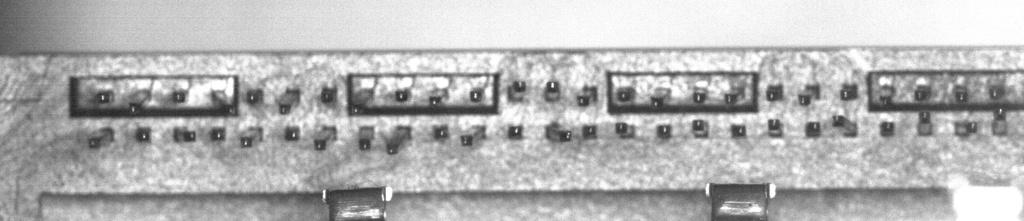pin_defect: (384, 122, 415, 155), (209, 87, 240, 119), (348, 84, 375, 117), (125, 86, 153, 117), (277, 83, 304, 115), (423, 84, 453, 111), (85, 126, 115, 151), (795, 82, 823, 108), (875, 83, 900, 110), (650, 83, 673, 110), (356, 124, 377, 153), (989, 105, 1009, 135), (313, 125, 336, 151), (832, 114, 857, 137), (461, 124, 487, 146), (722, 84, 748, 106), (506, 79, 527, 105), (576, 84, 600, 106), (545, 123, 572, 142), (915, 109, 934, 136), (239, 127, 262, 148), (765, 117, 785, 140), (615, 121, 637, 141), (912, 83, 933, 103), (951, 84, 970, 105), (173, 126, 196, 142), (955, 120, 976, 136), (691, 119, 709, 137), (544, 80, 560, 100), (320, 87, 337, 105), (766, 84, 783, 101), (805, 120, 821, 137), (880, 120, 895, 137)
pin_ok: (691, 85, 711, 105), (432, 124, 450, 143), (615, 86, 634, 103), (839, 84, 858, 101), (988, 83, 1005, 100), (246, 88, 263, 104), (730, 122, 747, 138), (284, 125, 300, 141), (507, 124, 524, 139), (135, 127, 151, 142), (582, 124, 598, 139), (95, 90, 112, 104), (469, 88, 484, 103), (657, 123, 672, 138), (210, 127, 226, 141), (171, 90, 186, 104), (395, 88, 410, 102)
